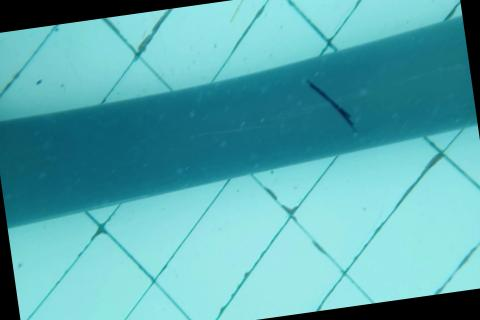keretakan: (306, 73, 356, 137)
